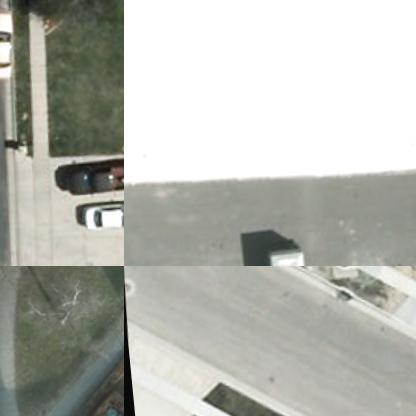car: (77, 200, 123, 247), (0, 10, 16, 86)
pickup: (61, 160, 123, 202)
truck: (257, 248, 303, 265)
